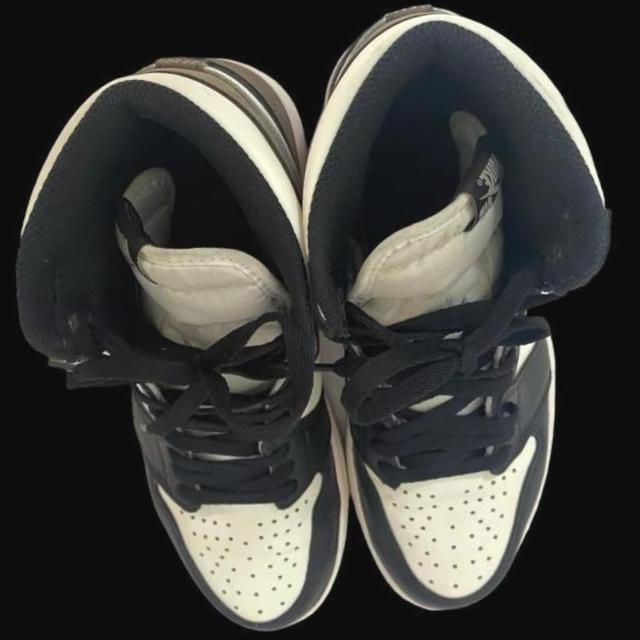nike_original_jordan: (273, 0, 640, 626), (0, 36, 365, 640)
